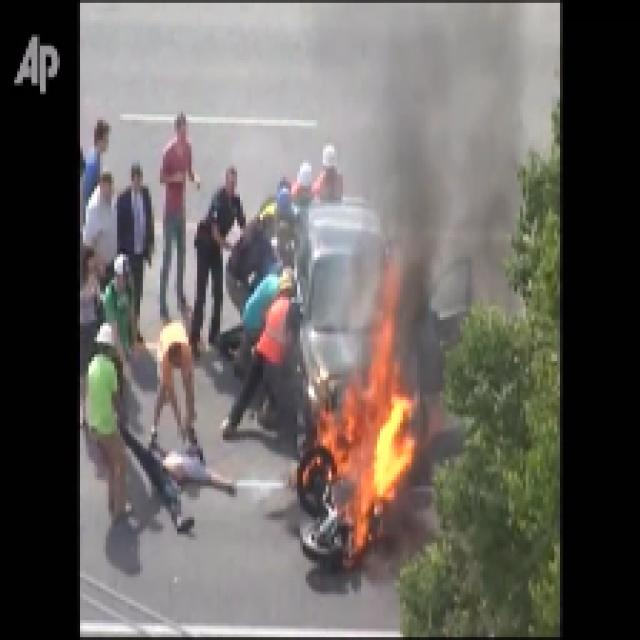fire: (330, 371, 405, 534)
smoke: (358, 20, 509, 270)
